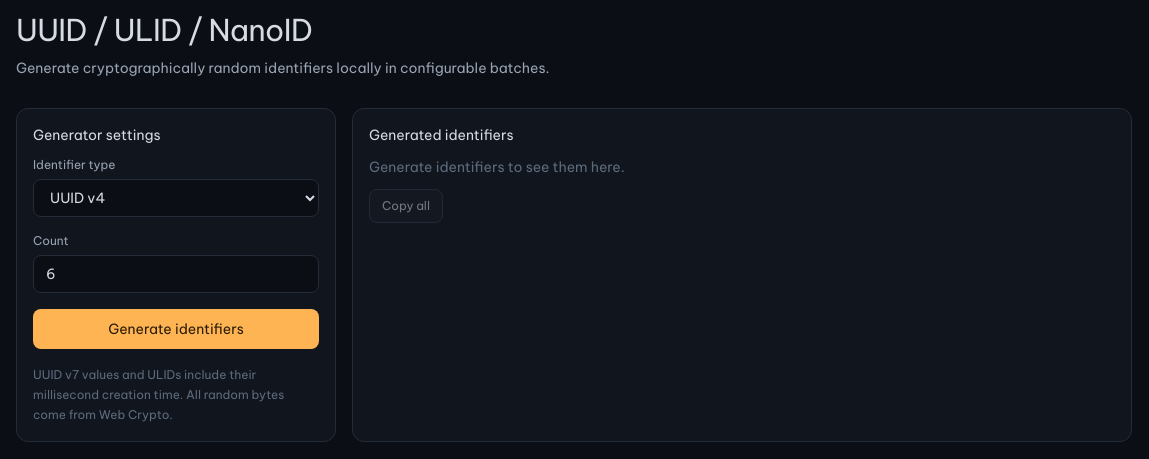
Scenario: UUID / ULID / NanoID tool › announces invalid limits
The image size is (1149, 459).
Replace the text in the number field labelled "Count" with "1001" at (176, 274), box [33,255,319,293]
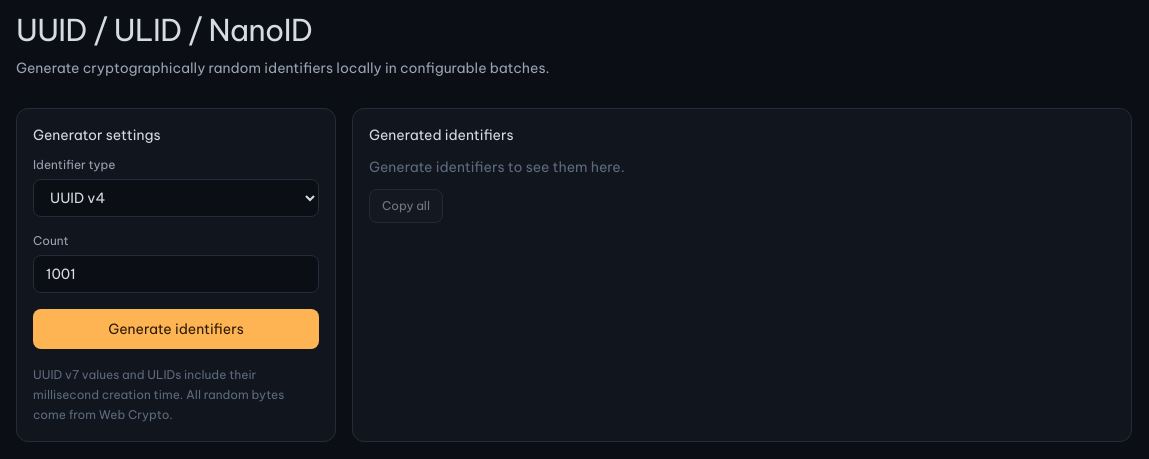
Click the button "Generate identifiers".
click(176, 329)  # box [33,309,319,349]
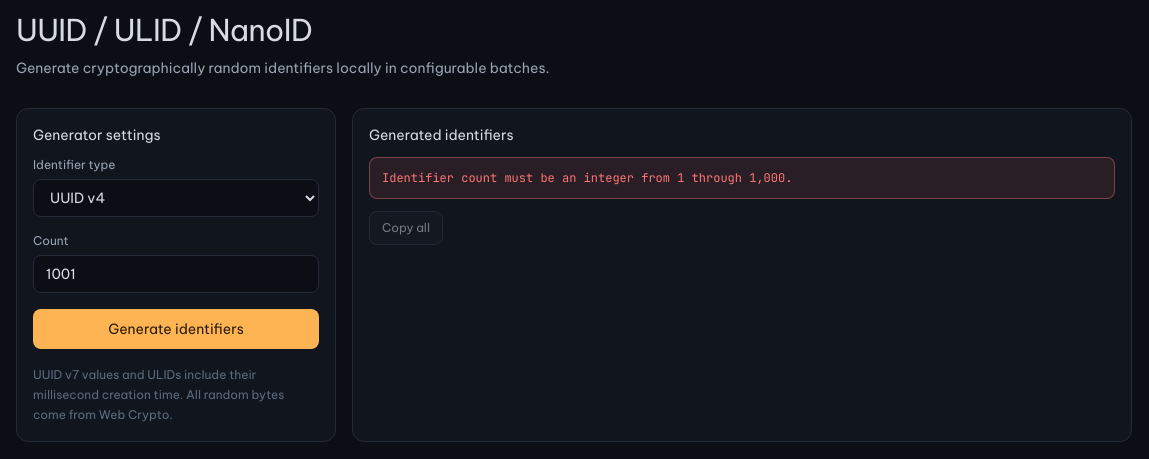
Expected: the message "Identifier count must be an integer from 1 through 1,000." is shown, [369,157,1115,199]
